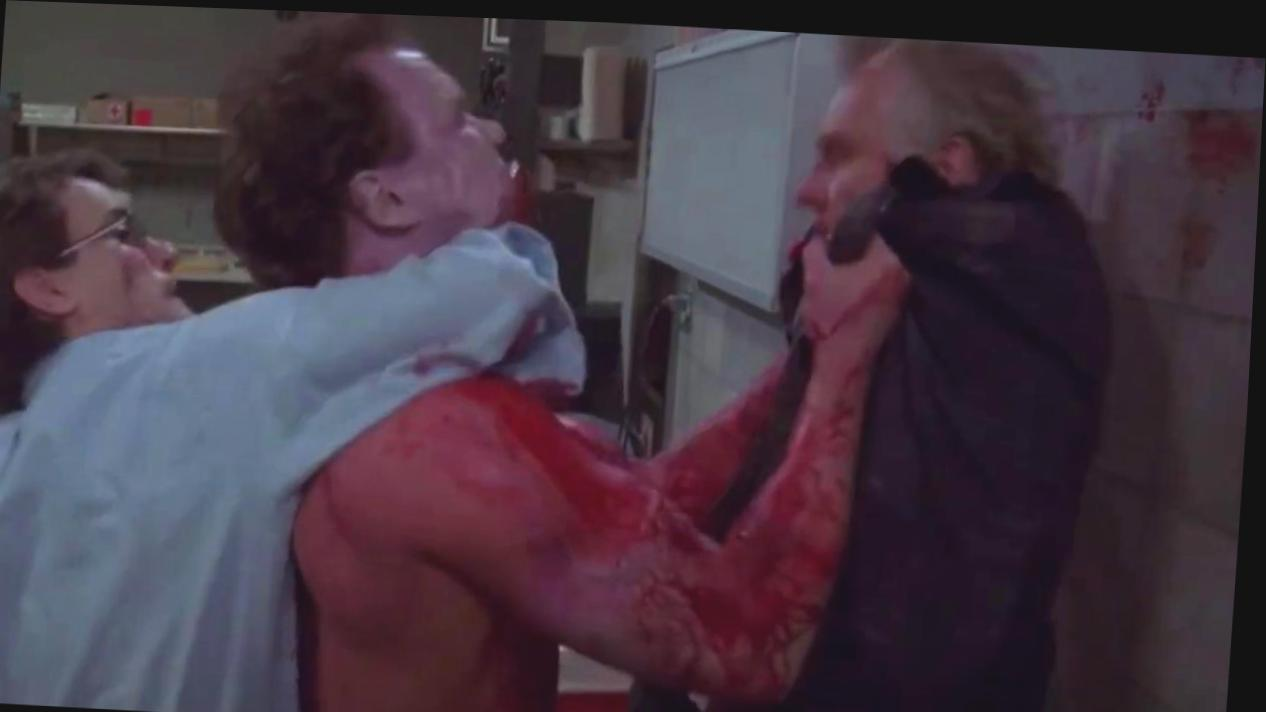Fire: (400, 258, 908, 712)
